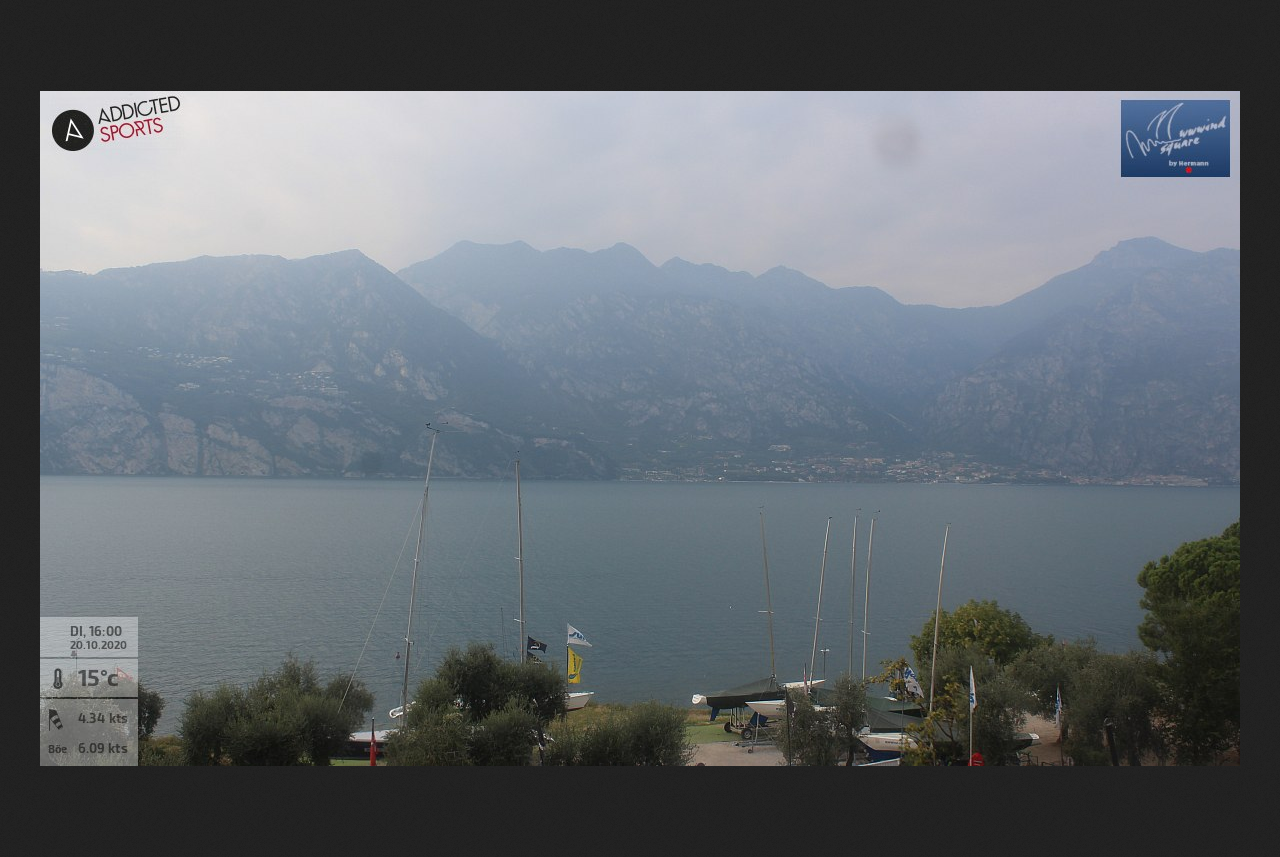maybe: (902, 660, 927, 702), (567, 622, 593, 652), (528, 637, 545, 653)
no: (968, 666, 982, 721), (1050, 686, 1064, 731)
